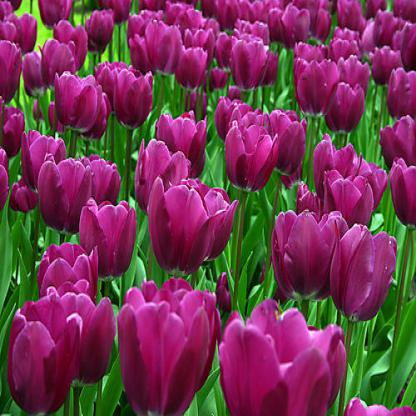TULIP: (2, 9, 412, 404)
